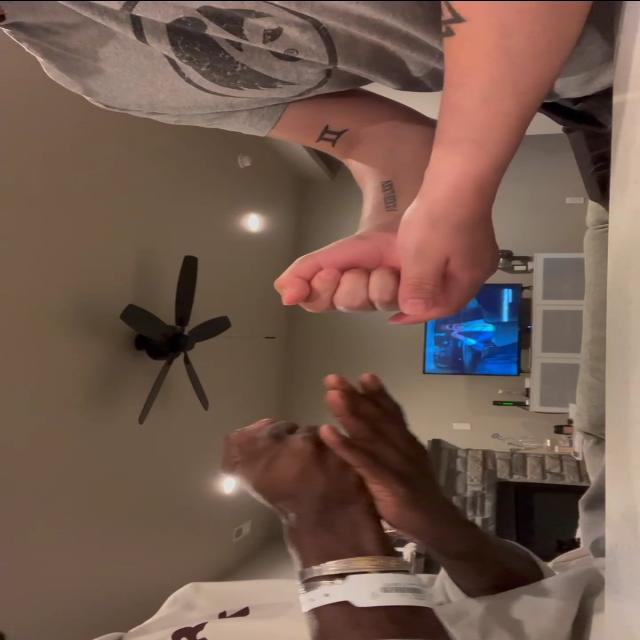Rock: (213, 415, 363, 511), (273, 232, 405, 316)
